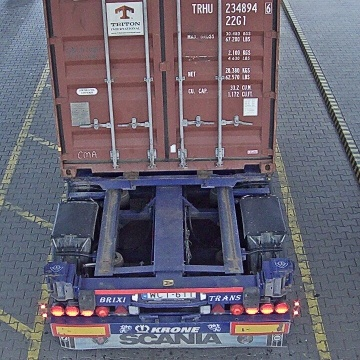serial_id: (192, 3, 272, 13)
